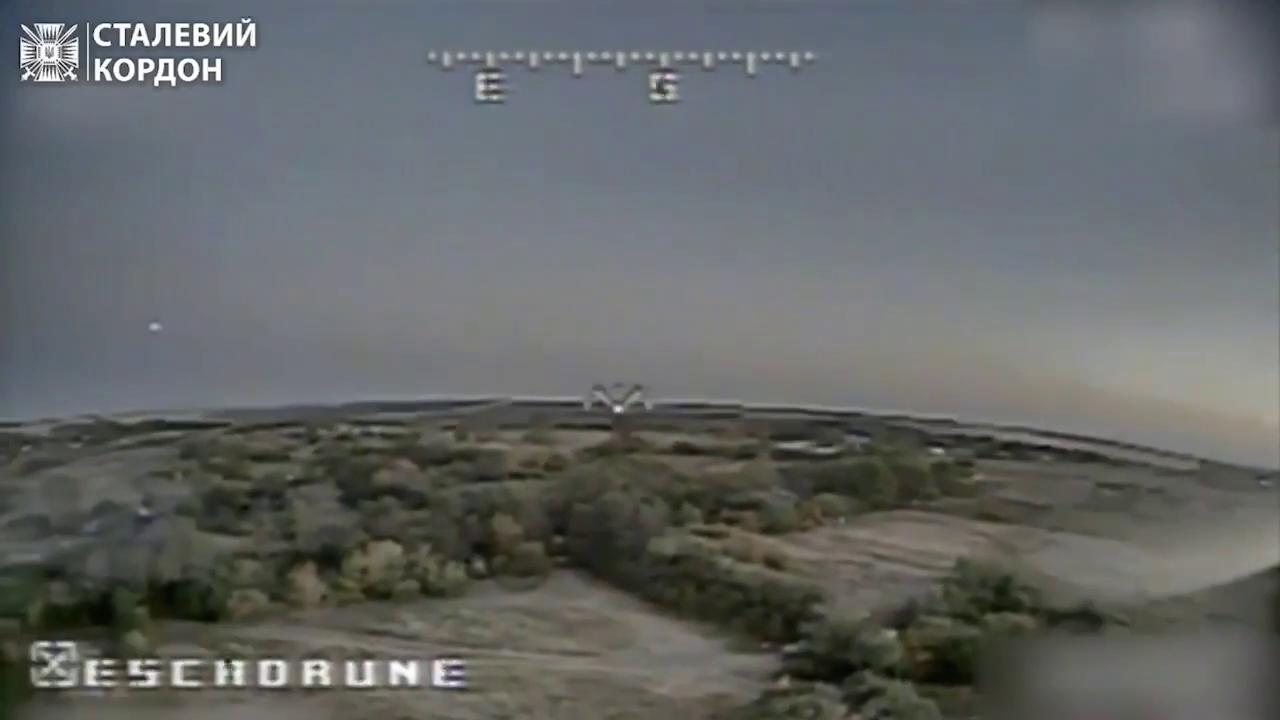tank: (451, 534, 503, 595)
